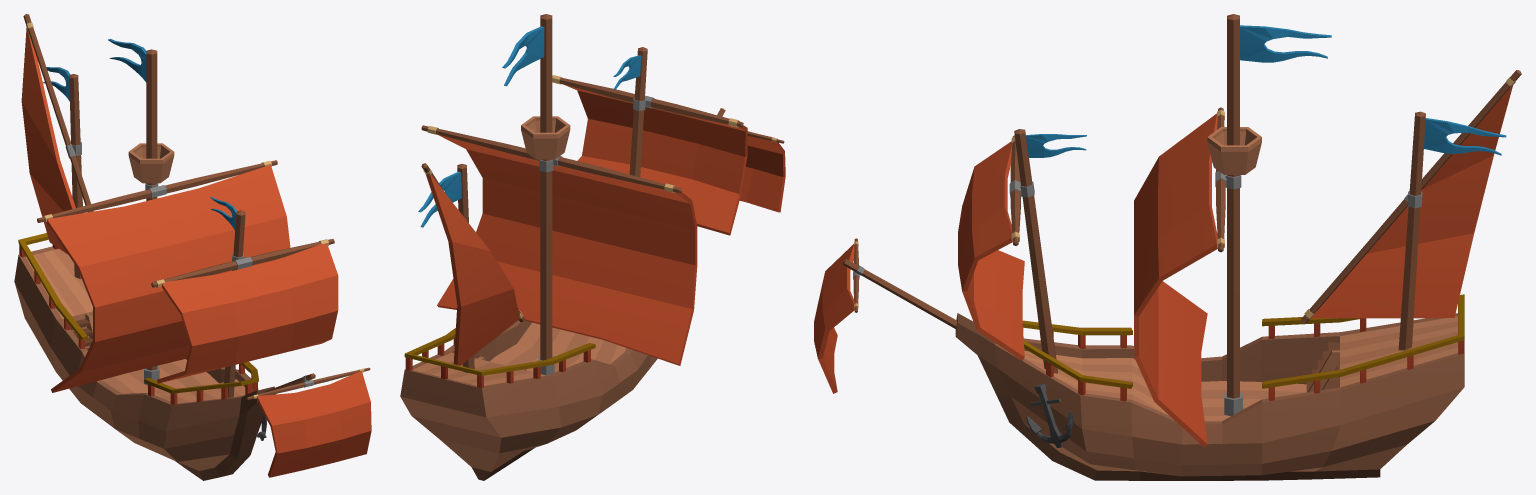
The model's file is ship-6.glb.
The picture shows the model from 3 angles, left to right: view 1: azimuth 30°, elevation 25°; view 2: azimuth 150°, elevation 25°; view 3: azimuth 270°, elevation 25°; orthographic projection. The views are drawn at different scales.
Visible parts, largest first — view 1: ship 6; view 2: ship 6; view 3: ship 6.
Part boxes in pixels (bbox=[...]): ship 6: bbox=[14, 14, 371, 480]; ship 6: bbox=[400, 14, 785, 480]; ship 6: bbox=[814, 14, 1521, 480].
Bounding box in the file's own units: 15.01 × 23.07 × 31.91.
Materials: 1 (1 with a texture image).
